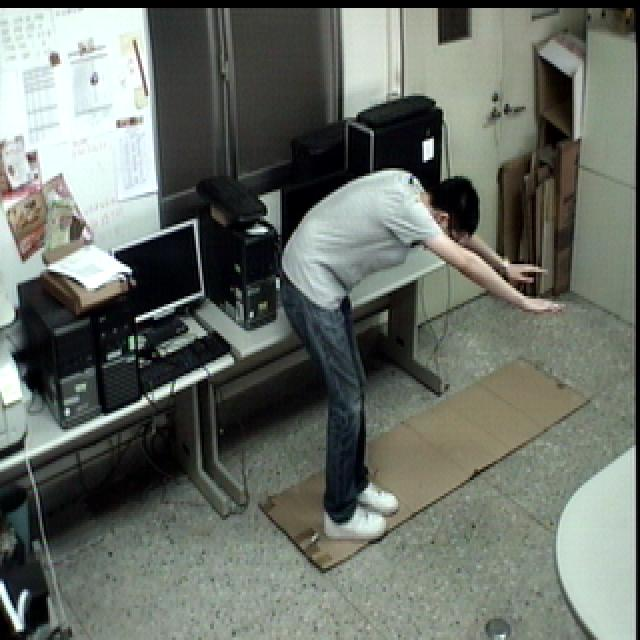bend: (274, 152, 566, 548)
